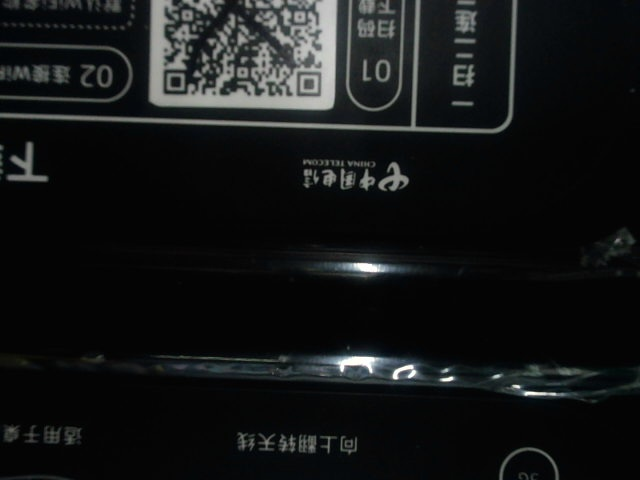AB_ChinaTelecom: (288, 140, 418, 196)
